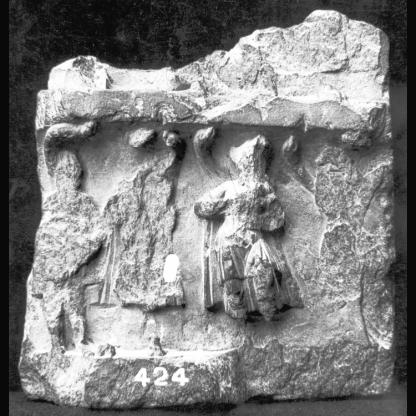buddha-standing: (194, 135, 300, 318)
